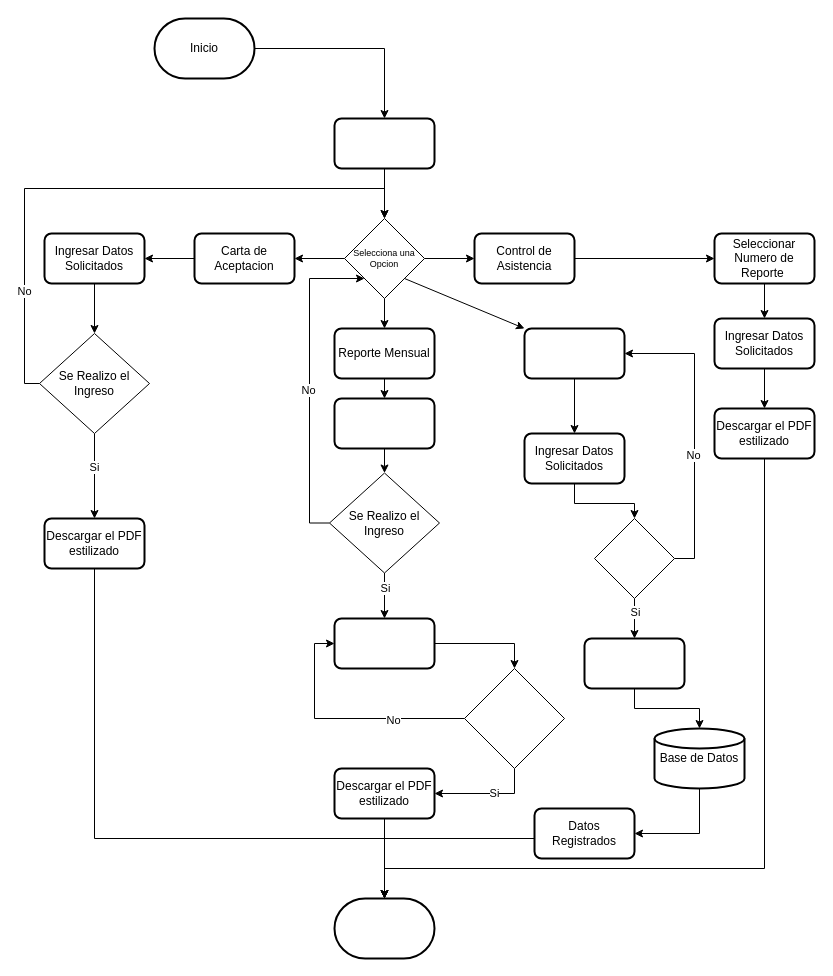
Some shapes in this 833 by 976 pixel diagram are drawn without their labels. Each missing label, with the centre of its shape:
"Descripción de las Actividades del Mes" belongs at [384,643].
"Envió de Datos a la Base" belongs at [634,663].
"Fin" belongs at [384,928].
"Ingresa a la Plataforma Web" belongs at [384,143].
"Ingresar Datos Básicos del Alumno" belongs at [384,423].
"Ingreso las descripciones" belongs at [514,718].
"Ingreso los Datos" belongs at [634,558].
"Registro de Alumnos" belongs at [574,353].
